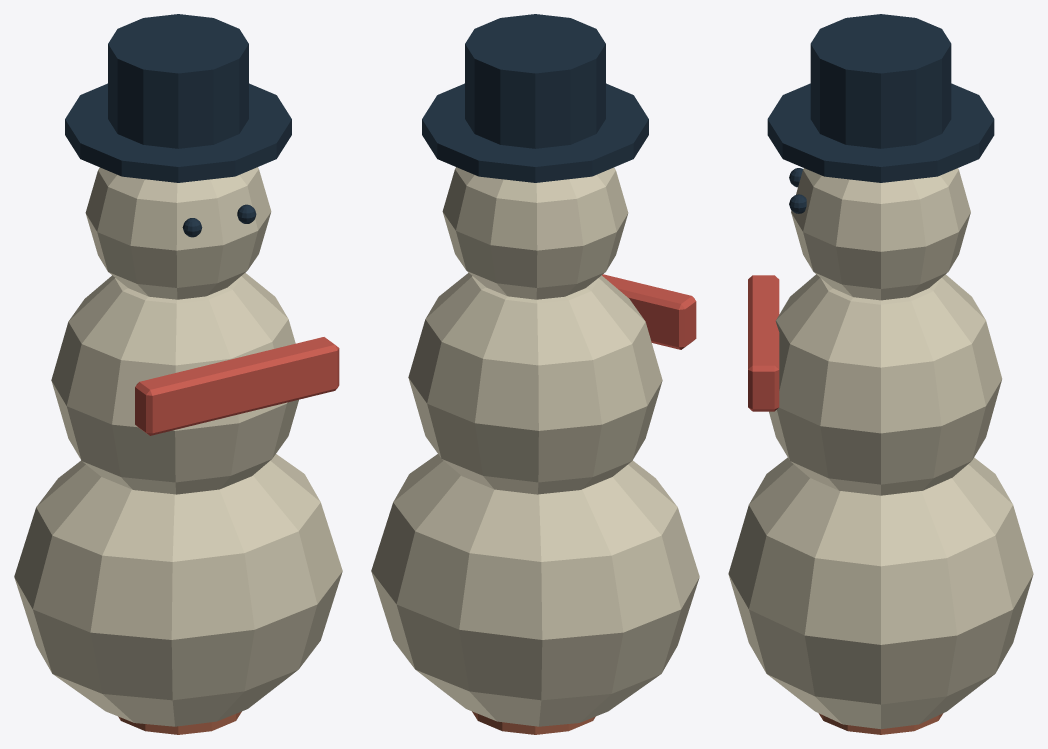
File: snowman.glb
The picture shows the model from 3 angles, left to right: view 1: azimuth 30°, elevation 25°; view 2: azimuth 150°, elevation 25°; view 3: azimuth 270°, elevation 25°; orthographic projection.
Visible parts, largest first — view 1: Target0, Target2, Target1, Remnant0; view 2: Target0, Target1, Target2, Remnant0; view 3: Target0, Target2, Target1, Remnant0.
Boxes of the visible parts, box(x1,y1,x2,y2) form: Target0: box(14, 454, 342, 726); Target2: box(65, 14, 291, 299); Target1: box(51, 272, 339, 494); Remnant0: box(118, 711, 241, 734); Target0: box(371, 454, 699, 726); Target1: box(408, 272, 696, 494); Target2: box(422, 14, 648, 299); Remnant0: box(472, 711, 595, 734); Target0: box(728, 457, 1033, 729); Target2: box(767, 14, 994, 300); Target1: box(748, 274, 1002, 495); Remnant0: box(818, 713, 943, 734).
Size of the model in its own units: 0.86 by 1.88 by 0.78.
